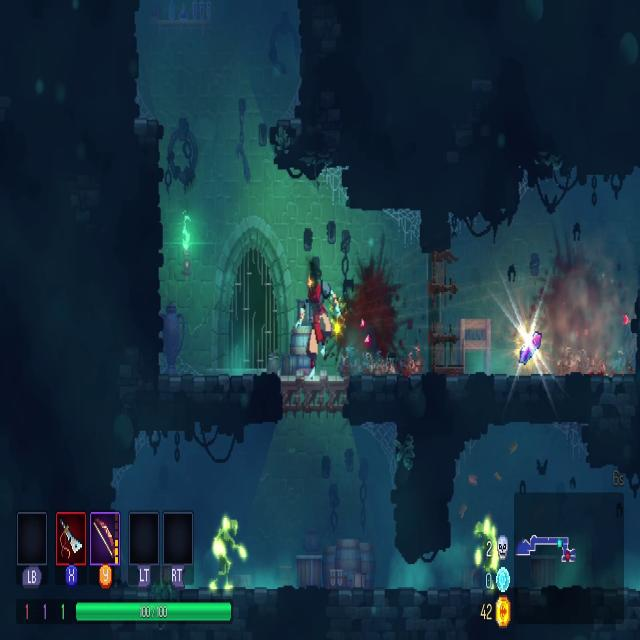agents: (300, 259, 350, 386)
enemy_green_puncher: (209, 517, 246, 593), (470, 513, 504, 588)
wood_floor: (282, 373, 350, 413)
